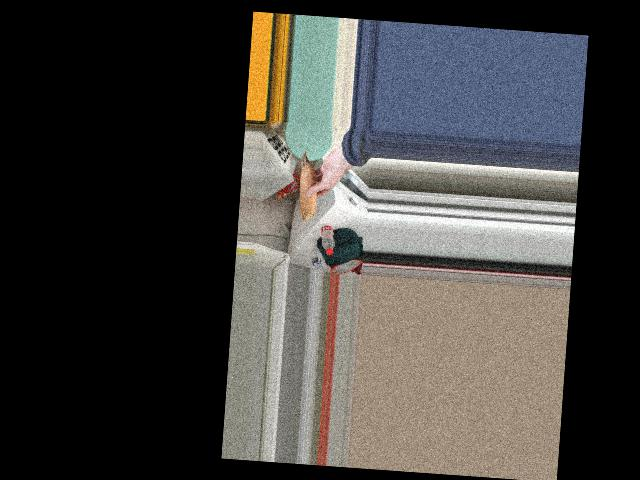sweet_potato: (298, 153, 324, 215)
